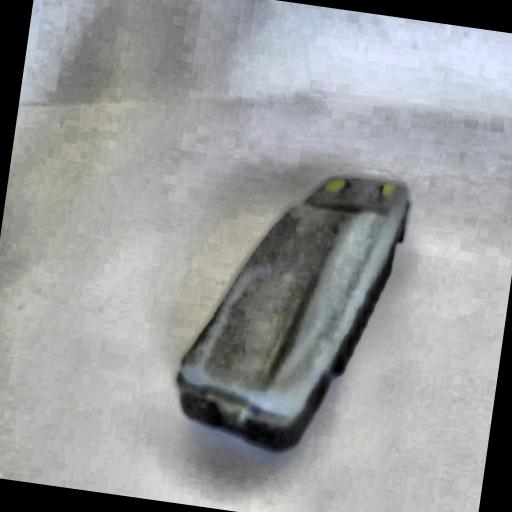normal_car: (165, 150, 420, 469)
